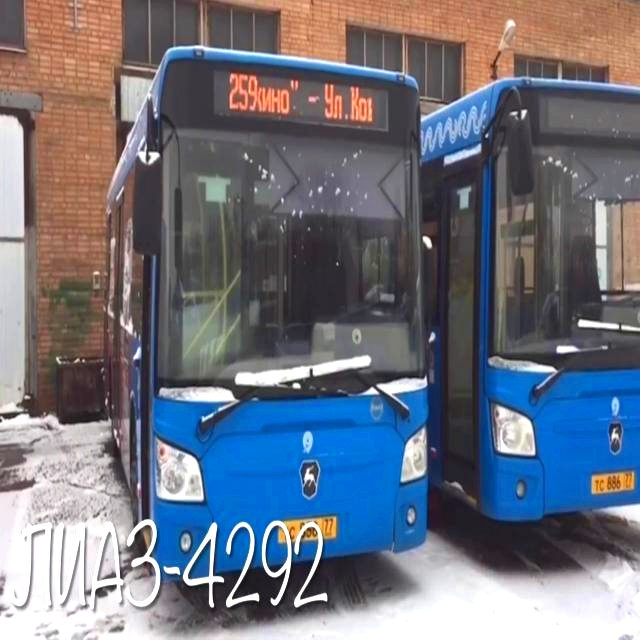bus: (66, 41, 461, 595), (474, 64, 638, 564)
